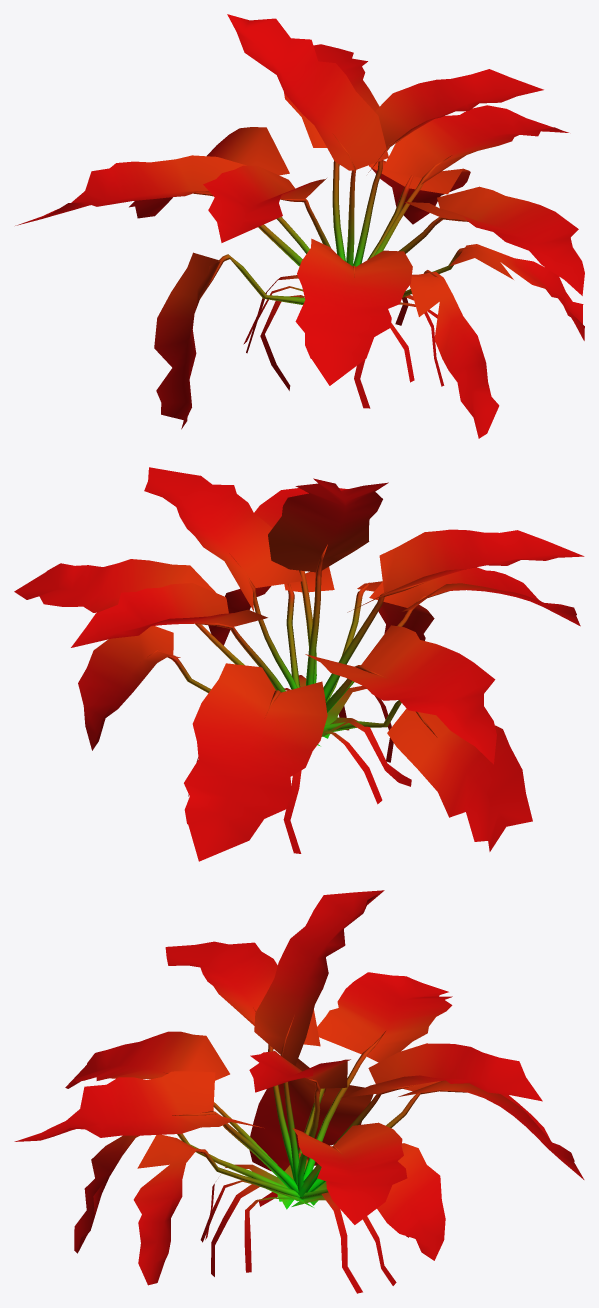
File: Xanadu_LOD0_Var2_siroZ.fbx
The picture shows the model from 3 angles, top to bottom: view 1: azimuth 30°, elevation 25°; view 2: azimuth 150°, elevation 25°; view 3: azimuth 270°, elevation 25°; orthographic projection. The views are drawn at different scales.
Visible parts, largest first — view 1: _40df_Var2_LOD0; view 2: _40df_Var2_LOD0; view 3: _40df_Var2_LOD0.
Part boxes in pixels (bbox=[...]): _40df_Var2_LOD0: bbox=[15, 14, 584, 438]; _40df_Var2_LOD0: bbox=[14, 467, 584, 861]; _40df_Var2_LOD0: bbox=[14, 890, 584, 1293].
Size of the model in its own units: 64.74 by 43.46 by 65.46.
